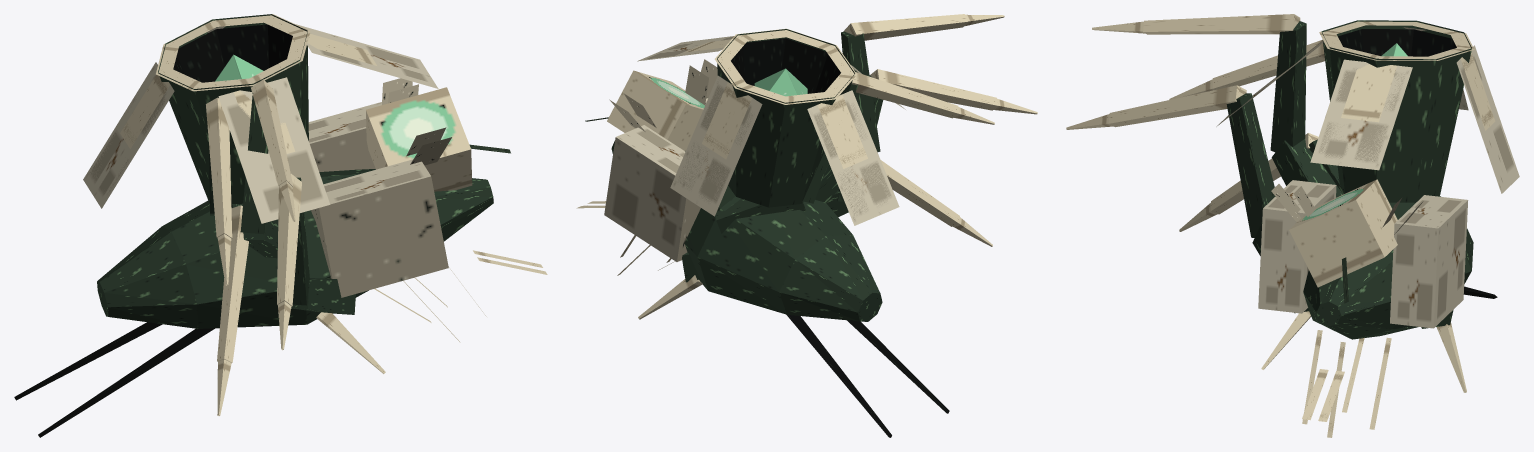
File: vore_death.obj
The picture shows the model from 3 angles, left to right: view 1: azimuth 30°, elevation 25°; view 2: azimuth 150°, elevation 25°; view 3: azimuth 270°, elevation 25°; orthographic projection. The views are drawn at different scales.
Parts seen in each view (by area): view 1: root, funnel, head, petal_left, petal_bottom, petal_top, leg_fr_tibia, leg_rr_tibia, leg_rl_tibia, leg_fl_tibia, tendril_l, leg_rl_coxa (+6 smaller); view 2: root, funnel, petal_right, petal_bottom, head, leg_fl_tibia, leg_fr_tibia, leg_rl_tibia, leg_fl_femur, leg_rr_tibia, tendril_r, leg_fr_coxa (+5 smaller); view 3: root, funnel, petal_top, head, leg_rl_femur, leg_fl_femur, petal_right, leg_fl_tibia, leg_rl_tibia, leg_fl_coxa, leg_fr_tibia, leg_rr_tibia (+2 smaller).
Part boxes in pixels (<box>): root: <box>97,78,547,373</box>; funnel: <box>156,14,310,207</box>; head: <box>366,87,510,191</box>; petal_left: <box>218,77,330,223</box>; petal_bottom: <box>83,62,174,208</box>; petal_top: <box>296,24,438,88</box>; leg_fr_tibia: <box>206,97,232,238</box>; leg_rr_tibia: <box>217,205,248,362</box>; leg_rl_tibia: <box>277,173,301,306</box>; leg_fl_tibia: <box>251,79,293,187</box>; tendril_l: <box>38,328,214,437</box>; leg_rl_coxa: <box>291,278,355,314</box>; root: <box>576,59,882,321</box>; funnel: <box>714,28,857,207</box>; petal_right: <box>670,75,762,216</box>; petal_bottom: <box>807,90,899,225</box>; head: <box>585,70,705,150</box>; leg_fl_tibia: <box>843,14,968,40</box>; leg_fr_tibia: <box>851,72,959,118</box>; leg_rl_tibia: <box>870,69,998,110</box>; leg_fl_femur: <box>841,31,880,152</box>; leg_rr_tibia: <box>881,160,959,226</box>; tendril_r: <box>786,314,891,437</box>; leg_fr_coxa: <box>715,198,805,233</box>; root: <box>1258,180,1473,421</box>; funnel: <box>1319,20,1474,202</box>; petal_top: <box>1310,59,1412,170</box>; head: <box>1289,179,1397,303</box>; leg_rl_femur: <box>1226,93,1275,237</box>; leg_fl_femur: <box>1270,21,1306,152</box>; petal_right: <box>1456,45,1519,193</box>; leg_fl_tibia: <box>1143,14,1300,34</box>; leg_rl_tibia: <box>1108,85,1246,127</box>; leg_fl_coxa: <box>1271,139,1342,197</box>; leg_fr_tibia: <box>1212,40,1324,89</box>; leg_rr_tibia: <box>1211,133,1318,214</box>.
Size of the model in its own units: 0.8381 by 0.6225 by 0.7196.
1 material, 1 textured.
